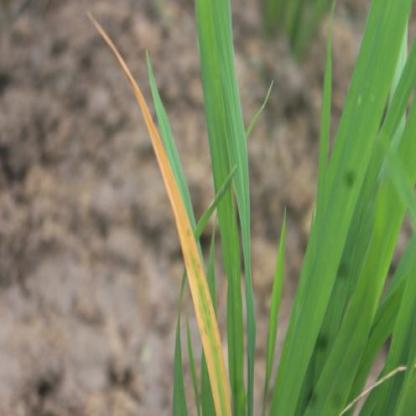Tungro: (139, 66, 228, 416)
